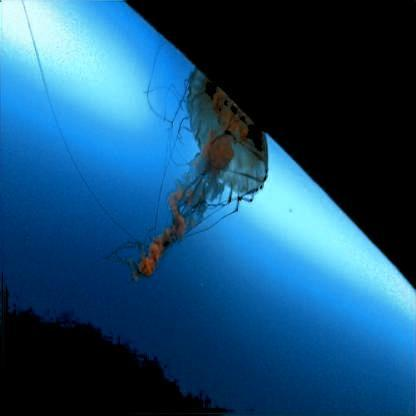Dressed: (125, 68, 270, 281)
